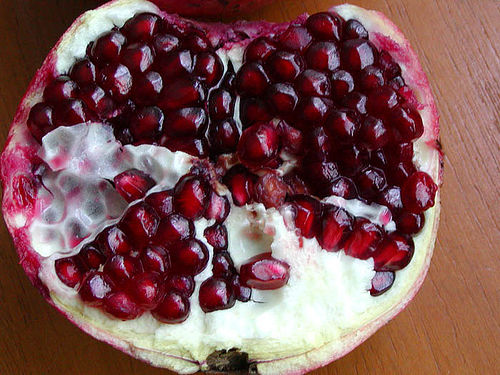pomogranate: (0, 0, 441, 374), (238, 254, 292, 292), (370, 228, 413, 270), (240, 125, 281, 167)
